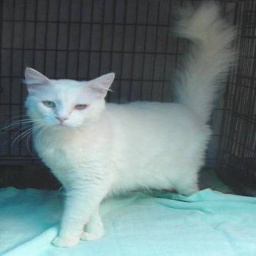cat: (20, 11, 227, 247)
